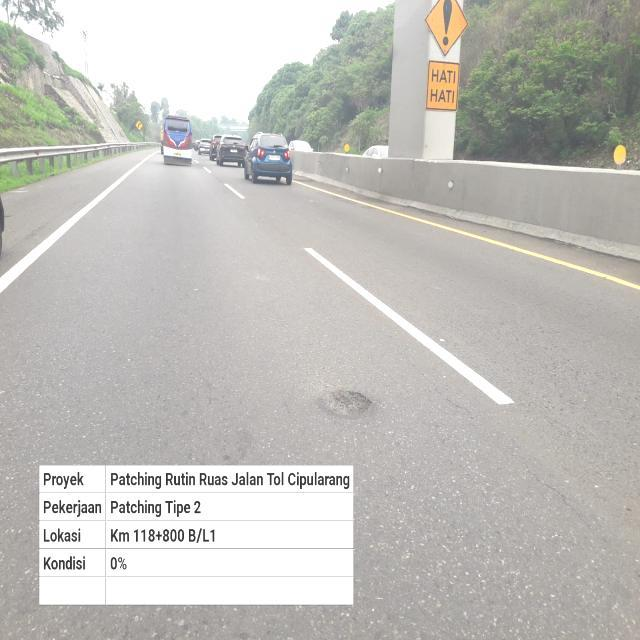Buraco: (313, 387, 375, 421)
